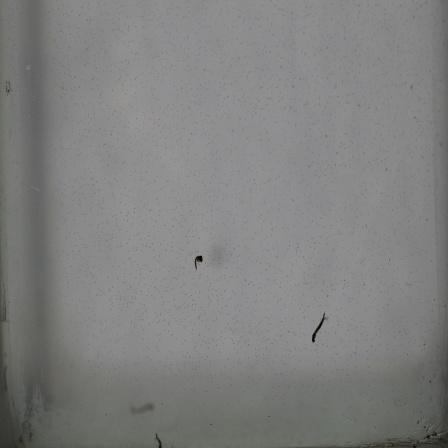Jentik-Nyamuk: (309, 310, 330, 345), (190, 252, 208, 272)
